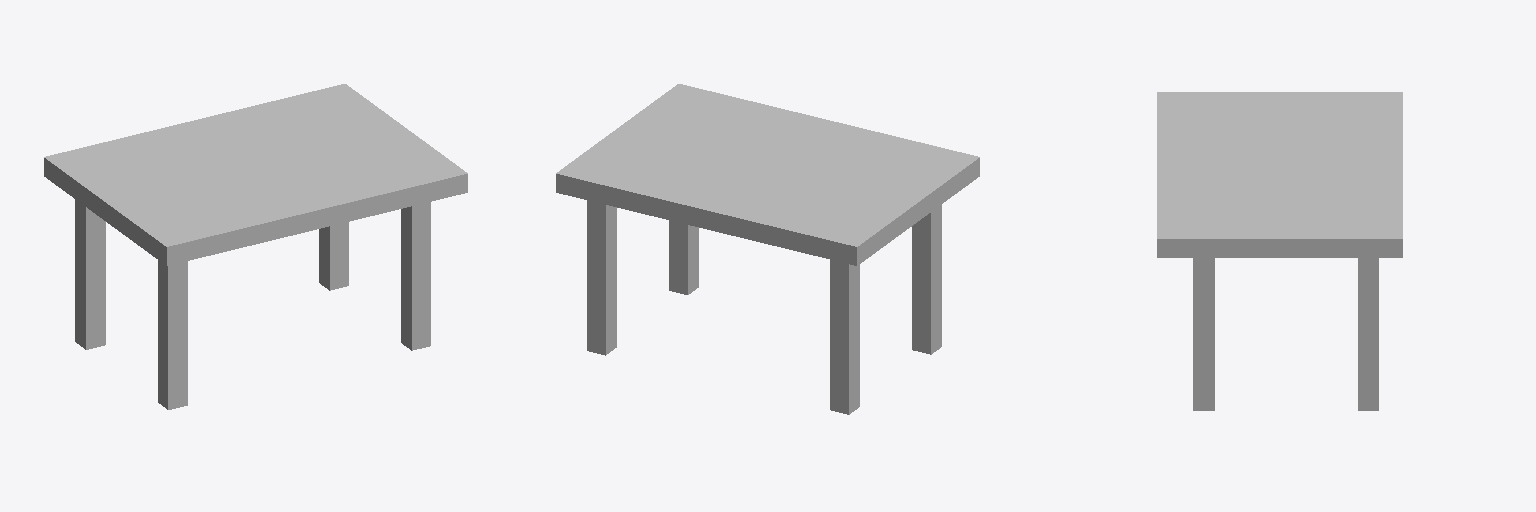
File: Table.obj
3 views of the same model, side by side, from view 1: azimuth 30°, elevation 25°; view 2: azimuth 150°, elevation 25°; view 3: azimuth 270°, elevation 25° (orthographic).
Parts seen in each view (by area): view 1: Table_Cube.001; view 2: Table_Cube.001; view 3: Table_Cube.001.
Part boxes in pixels (left/top/right/bottom): Table_Cube.001: left=44, top=84, right=467, bottom=409; Table_Cube.001: left=556, top=84, right=979, bottom=414; Table_Cube.001: left=1157, top=92, right=1402, bottom=410.
Bounding box in the file's own units: 7.99 × 4.59 × 5.64.